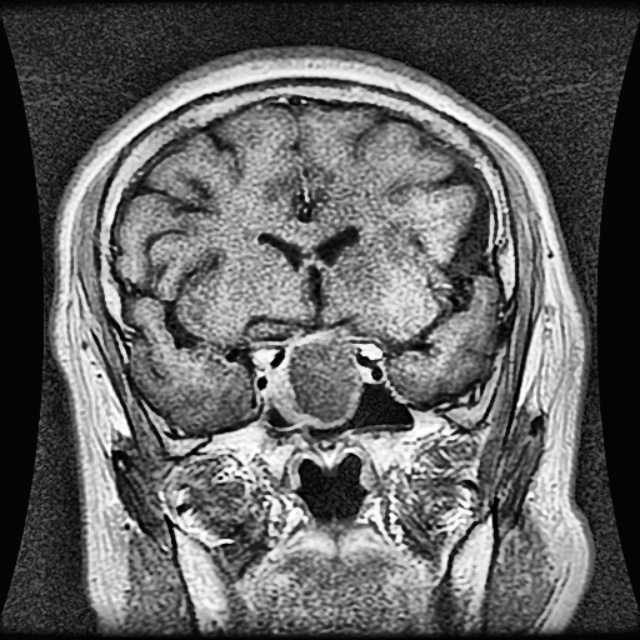Pituitary: (253, 328, 364, 429)
